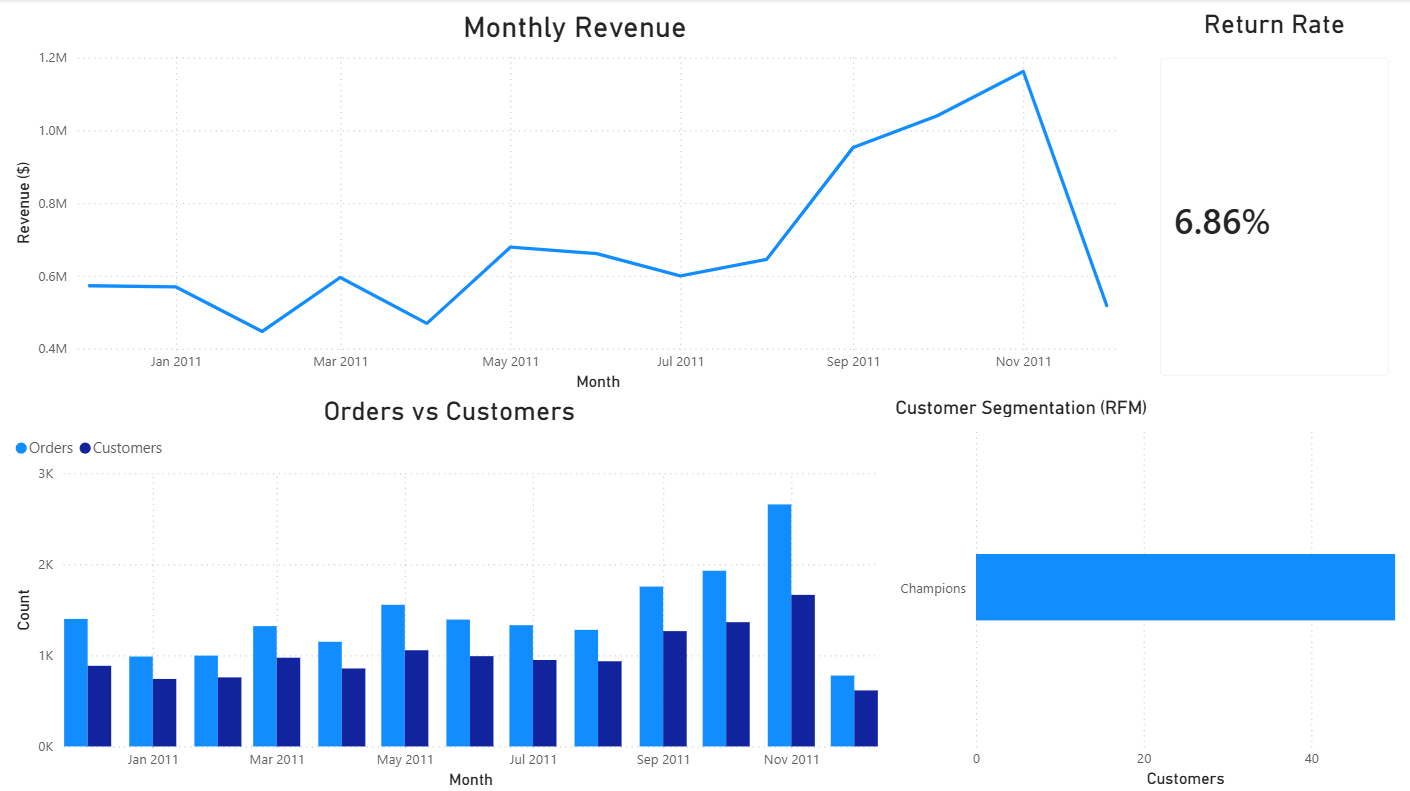

What the dashboard file says about the page in this screenshot:
{"tool":"powerbi","page":{"name":"Page 1","canvas":[1280,720],"ordinal":0},"visuals":[{"type":"lineChart","title":"Monthly Revenue","fields":{"Y":["Sum(monthly_kpis.revenue)"],"Category":["monthly_kpis.month"]},"box":[9.1,9.1,1026.5,350.9],"z":0},{"type":"clusteredColumnChart","title":"Orders vs Customers","fields":{"Y":["Sum(monthly_kpis.orders)","Sum(monthly_kpis.customers)"],"Category":["monthly_kpis.month"]},"box":[9.1,360.1,798.9,361.1],"z":1000},{"type":"clusteredBarChart","title":"Customer Segmentation (RFM)","fields":{"Category":["rfm_top50.segment"],"Y":["CountNonNull(rfm_top50.customer_id)"]},"box":[807.9,360.1,470,360.1],"z":2000},{"type":"cardVisual","title":"Return Rate","fields":{"Data":["monthly_kpis.ReturnRate"]},"box":[1035.6,9.1,242.1,350.9],"z":3000}]}

Visuals, with their boxes in screenshot pixels (x1, y1, x2, y2), scaled from the page's 1280x720 canvas onto the 1410x791 screenshot:
"Monthly Revenue" lineChart: bbox=[10, 10, 1141, 396]
"Orders vs Customers" clusteredColumnChart: bbox=[10, 396, 890, 790]
"Customer Segmentation (RFM)" clusteredBarChart: bbox=[890, 396, 1408, 790]
"Return Rate" cardVisual: bbox=[1141, 10, 1407, 396]
